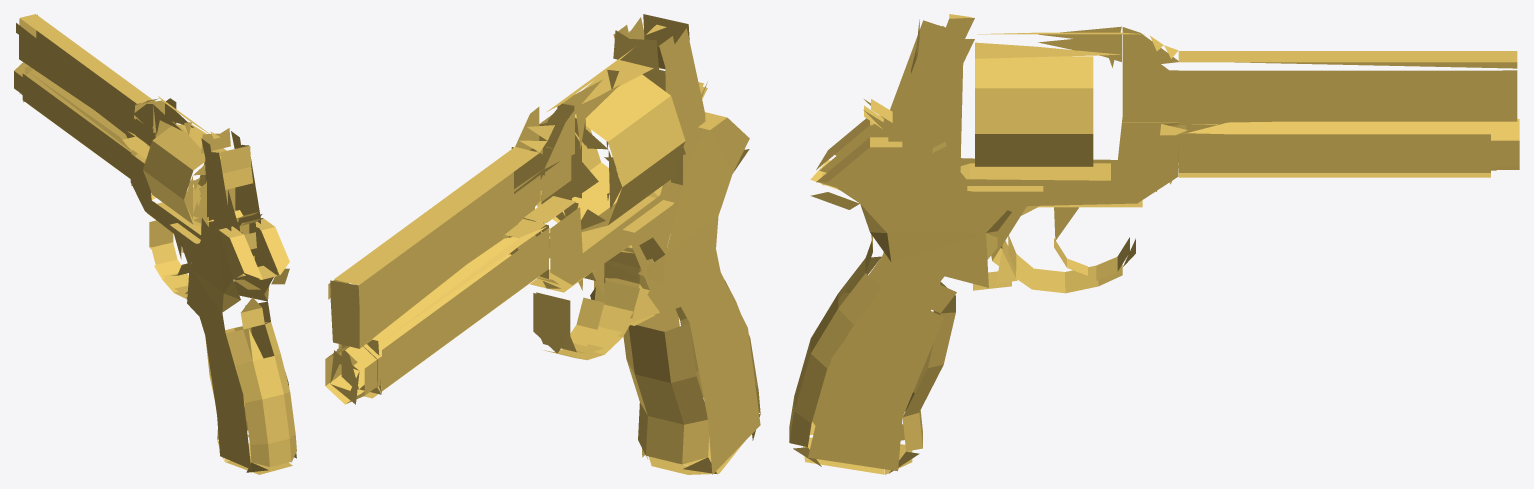
Rendered from charm_mst_pistol_13.glb.
3 views of the same model, side by side, from view 1: azimuth 30°, elevation 25°; view 2: azimuth 150°, elevation 25°; view 3: azimuth 270°, elevation 25° (orthographic). The views are drawn at different scales.
Parts seen in each view (by area): view 1: p0_paint; view 2: p0_paint; view 3: p0_paint.
Boxes of the visible parts, left/top/right/bottom form: p0_paint: left=14, top=14, right=296, bottom=474; p0_paint: left=325, top=14, right=760, bottom=474; p0_paint: left=789, top=14, right=1519, bottom=474.
Size of the model in its own units: 0.0394 by 0.1782 by 0.27.
